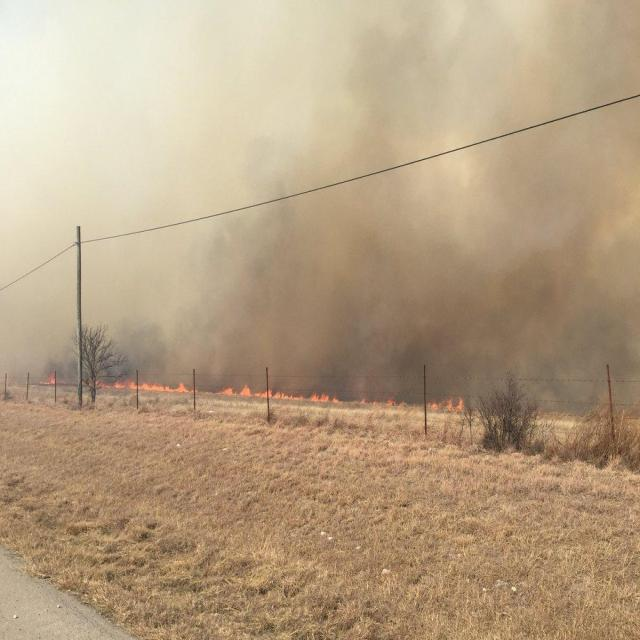Fire: (218, 382, 338, 404), (94, 378, 198, 394), (427, 396, 465, 410)
Smoke: (0, 0, 640, 412)
